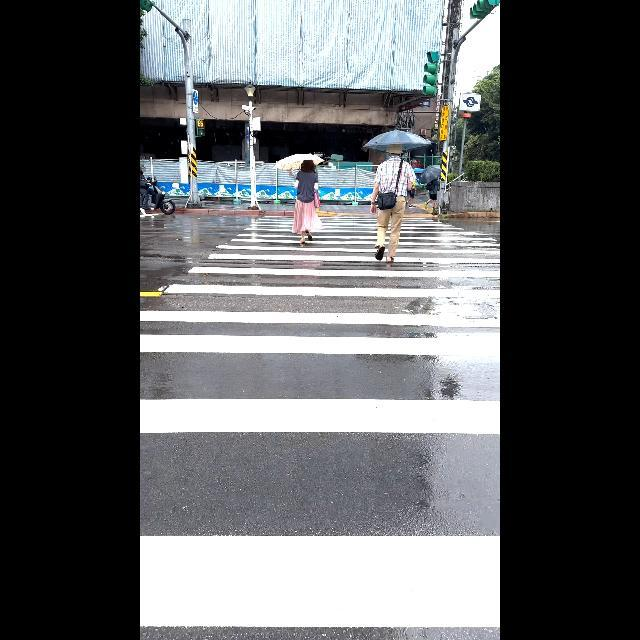sidewalk: (140, 187, 500, 639)
